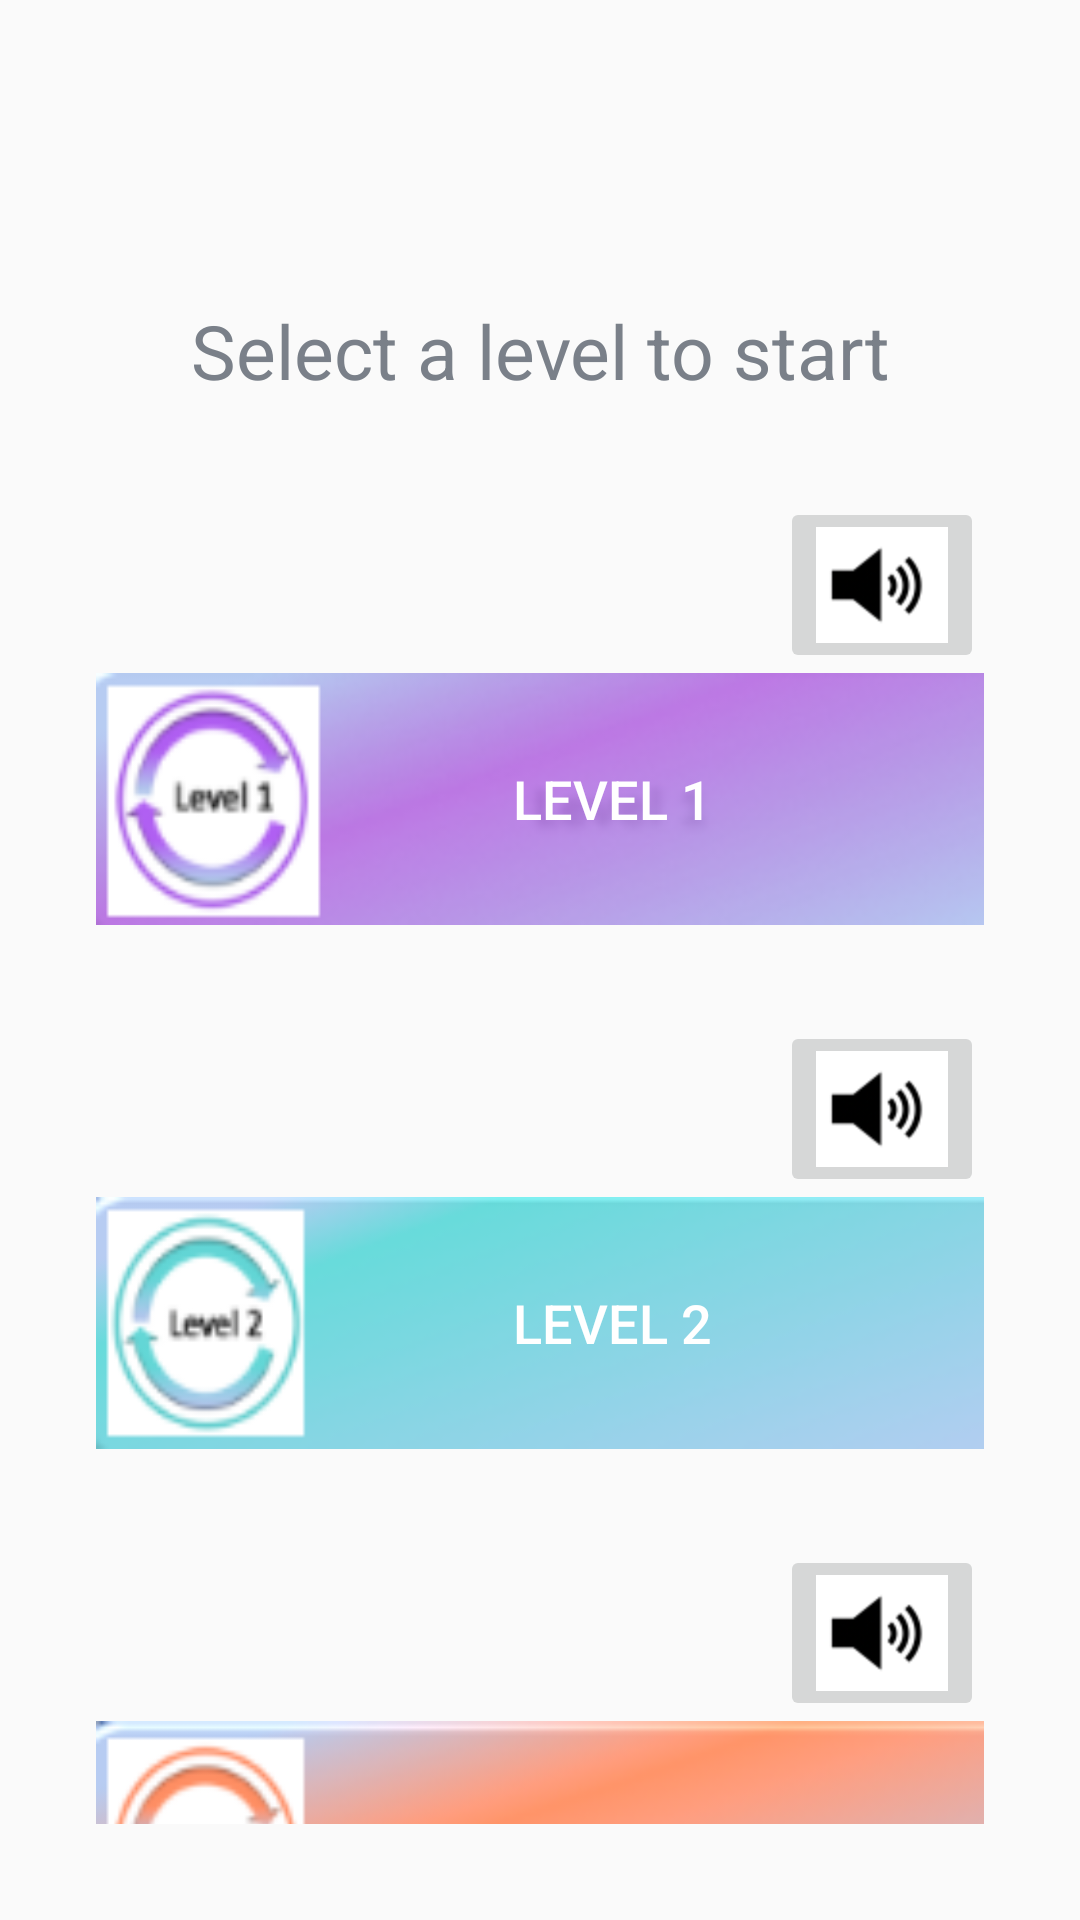

Where to tap for icons on this 1080×1920 app screen, as [x,y]:
sound: [882,585], [882,1109], [882,1633]
